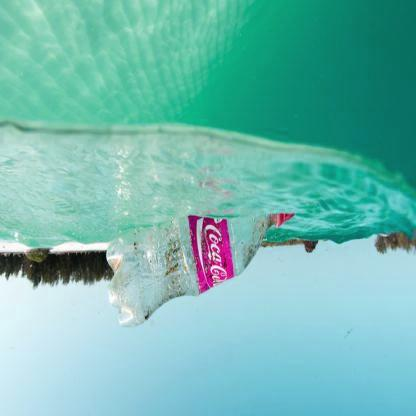Plastic: (102, 206, 295, 332)
